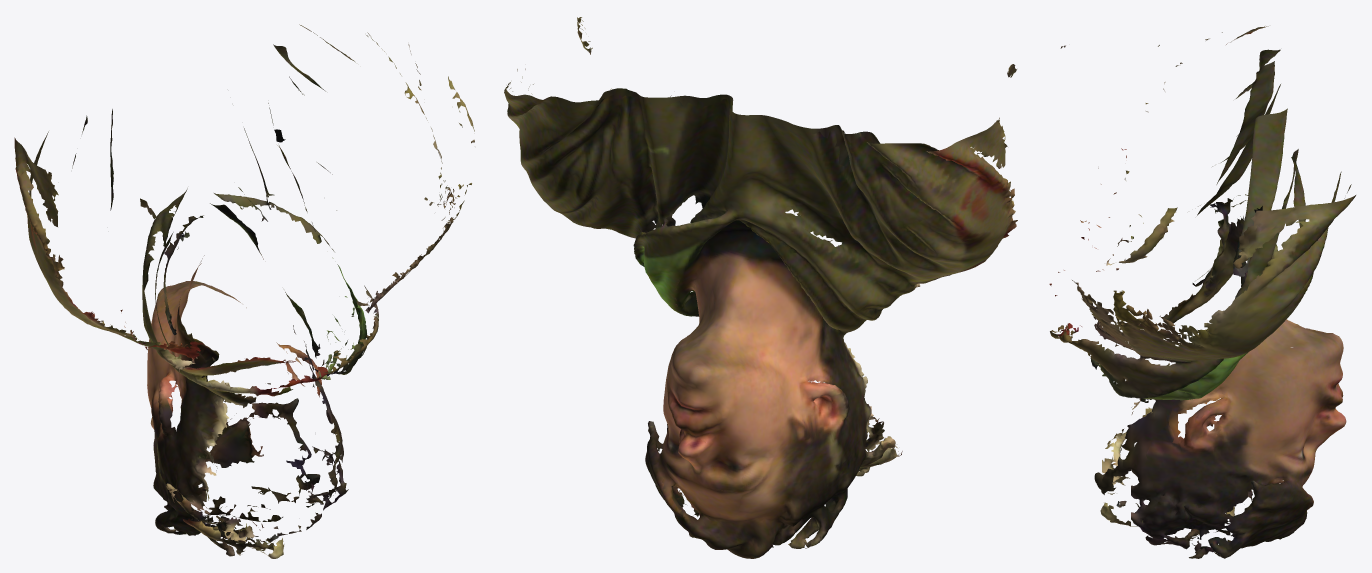
Rendered from Model_obj_ayX9JnujV5D_dcNDWmlhZpl.glb.
3 renders of one model, left to right at view 1: azimuth 30°, elevation 25°; view 2: azimuth 150°, elevation 25°; view 3: azimuth 270°, elevation 25°, orthographic. The views are drawn at different scales.
Parts seen in each view (by area): view 1: Node; view 2: Node; view 3: Node.
Boxes of the visible parts, x1,y1,x2,y2 form: Node: [14, 24, 474, 558]; Node: [504, 17, 1017, 558]; Node: [1049, 26, 1355, 558].
Bounding box in the file's own units: 0.5036 × 0.4914 × 0.3195.
Materials: 1 (1 with a texture image).
